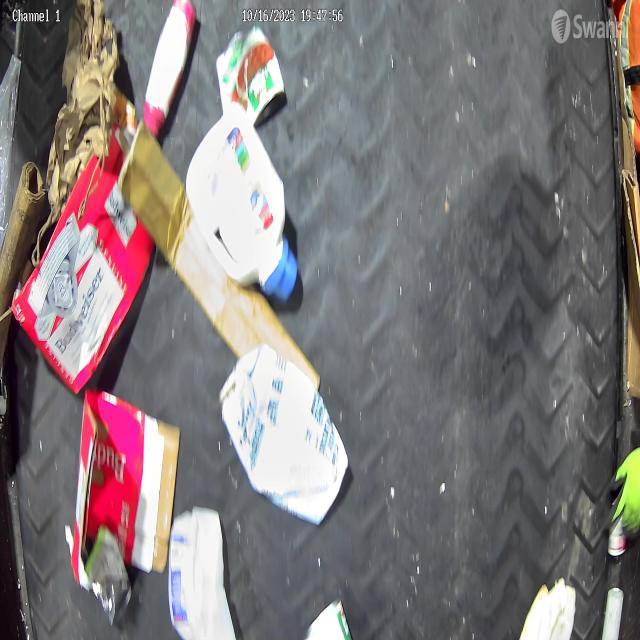can: (215, 23, 288, 130), (84, 524, 134, 626), (304, 595, 352, 640)
milk_jug: (168, 507, 238, 640)
non_white_jug: (186, 101, 298, 303)
